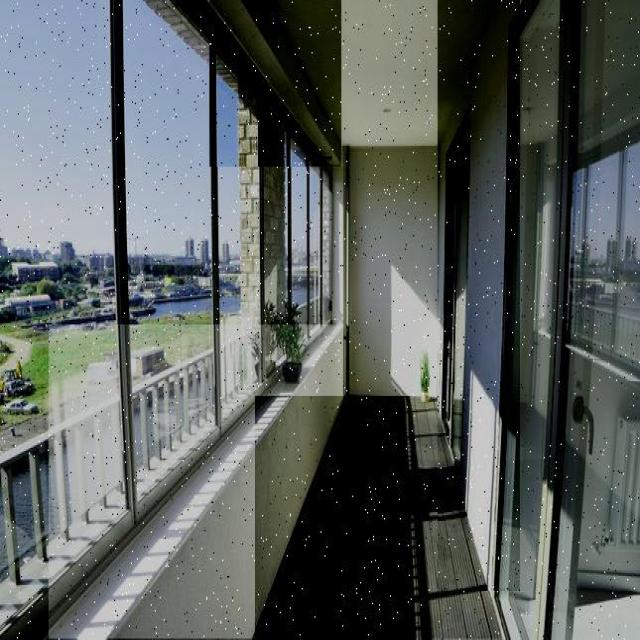Wall: (49, 326, 343, 639), (255, 397, 501, 639), (439, 0, 520, 591), (272, 1, 497, 146), (350, 147, 441, 396), (210, 0, 341, 167)
